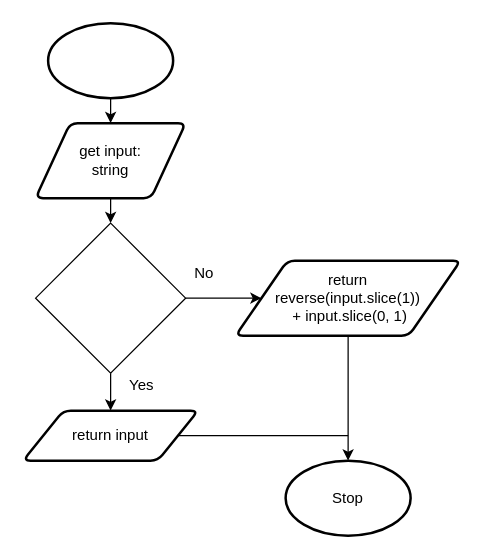
Image size: 483x558. Some labels were removed from this diagram. Here are the shapes that lost their labels. From the top down, the centre of each, then its label:
[110,60]: Start
[110,297]: if input = " "
